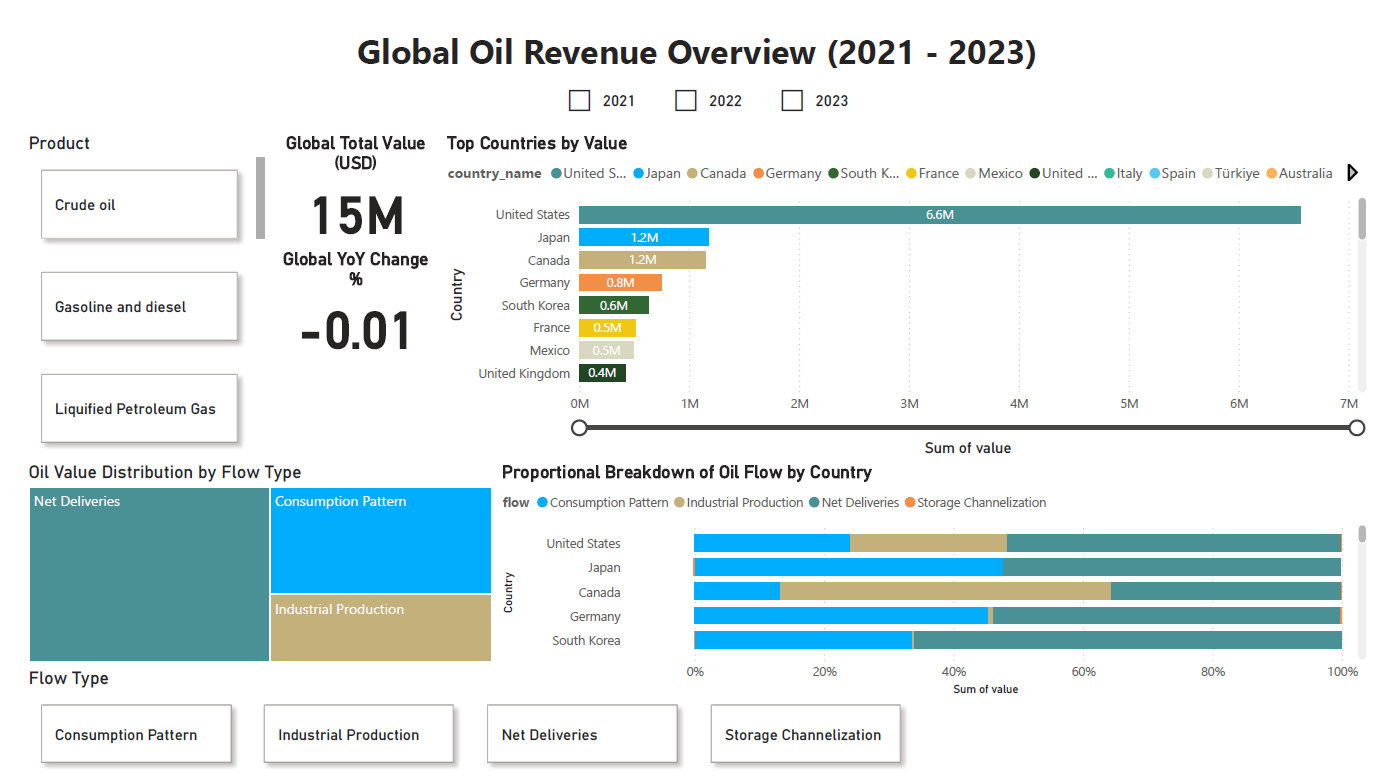

What the dashboard file says about the page in this screenshot:
{"tool":"powerbi","page":{"name":"Page 1","canvas":[1280,720],"ordinal":0},"visuals":[{"type":"textbox","box":[0,0,1280,104.5],"z":0},{"type":"advancedSlicerVisual","title":"Flow Type","fields":{"Values":["OilData.flow"]},"box":[0,612,853.4,108.2],"z":1000},{"type":"advancedSlicerVisual","title":"Product","fields":{"Values":["OilData.product"]},"box":[0,104.5,233.9,312.2],"z":2000},{"type":"advancedSlicerVisual","title":"Year","fields":{"Values":["OilData.year"]},"box":[500.1,43.5,307.3,61],"z":3000},{"type":"card","title":"Global Total Value (USD)","fields":{"Values":["Sum(OilData.value)"]},"box":[233.9,104.5,164.2,109.5],"z":4000},{"type":"card","title":"Global YoY Change %","fields":{"Values":["OilData.Global YoY Change %"]},"box":[233.9,214,164.2,108.2],"z":5000},{"type":"barChart","title":"Top Countries by Value","fields":{"Category":["OilData.country_name"],"Y":["Sum(OilData.value)"],"Series":["OilData.country_name"]},"box":[398.1,104.5,882,312.2],"z":6000},{"type":"hundredPercentStackedBarChart","title":"Proportional Breakdown of Oil Flow by Country","fields":{"Category":["OilData.country_name"],"Series":["OilData.flow"],"Y":["Sum(OilData.value)"]},"box":[450.3,416.7,829.7,227.6],"z":7000},{"type":"treemap","title":"Oil Value Distribution by Flow Type","fields":{"Group":["OilData.flow"],"Values":["Sum(OilData.value)"]},"box":[0,416.7,450.3,195.3],"z":8000}]}

Visuals, with their boxes in screenshot pixels (x1, y1, x2, y2), scaled from the page's 1280x720 canvas onto the 1387x783 screenshot:
textbox: <region>0, 0, 1386, 114</region>
"Flow Type" advancedSlicerVisual: <region>0, 666, 925, 782</region>
"Product" advancedSlicerVisual: <region>0, 114, 253, 453</region>
"Year" advancedSlicerVisual: <region>542, 47, 875, 114</region>
"Global Total Value (USD)" card: <region>253, 114, 431, 233</region>
"Global YoY Change %" card: <region>253, 233, 431, 350</region>
"Top Countries by Value" barChart: <region>431, 114, 1386, 453</region>
"Proportional Breakdown of Oil Flow by Country" hundredPercentStackedBarChart: <region>488, 453, 1386, 701</region>
"Oil Value Distribution by Flow Type" treemap: <region>0, 453, 488, 666</region>
